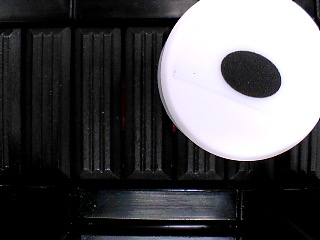BOHOEL: (160, 1, 320, 162)
